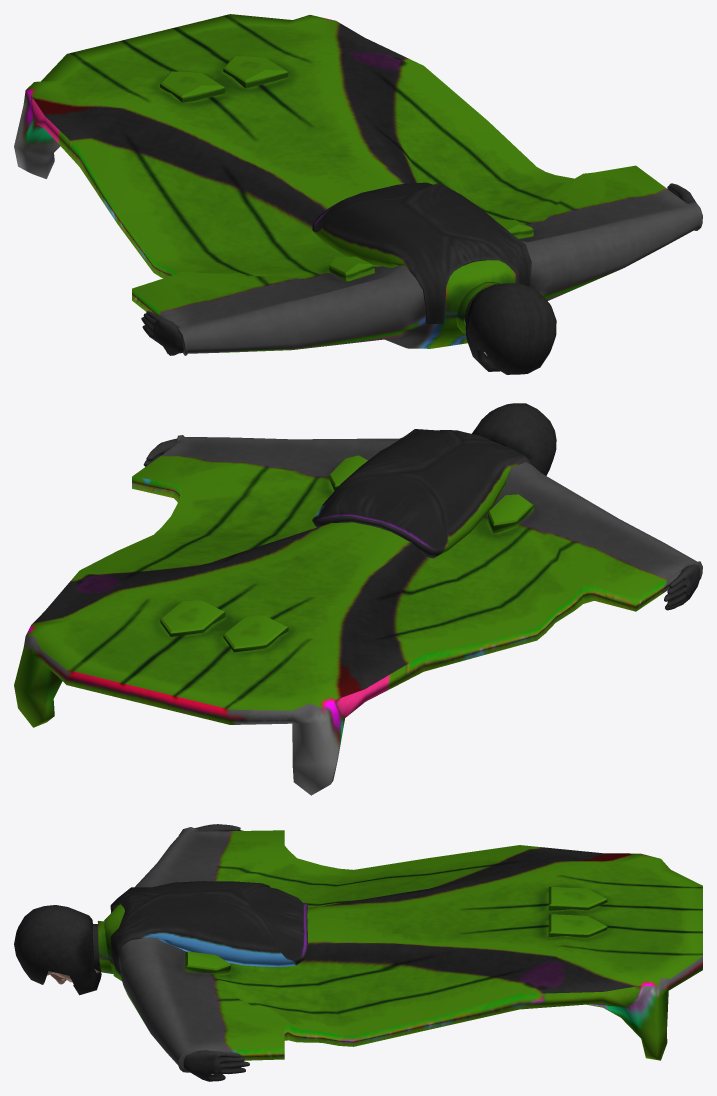
File: tsimwingsuit.glb
The picture shows the model from 3 angles, top to bottom: view 1: azimuth 30°, elevation 25°; view 2: azimuth 150°, elevation 25°; view 3: azimuth 270°, elevation 25°; orthographic projection. The views are drawn at different scales.
Parts seen in each view (by area): view 1: WS_V3; view 2: WS_V3; view 3: WS_V3.
Boxes of the visible parts, x1=… form: WS_V3: x1=14, y1=14, x2=702, y2=374; WS_V3: x1=14, y1=403, x2=702, y2=795; WS_V3: x1=14, y1=824, x2=702, y2=1081.
Bounding box in the file's own units: 2.82 × 0.6066 × 3.55.
Materials: 1 (1 with a texture image).
